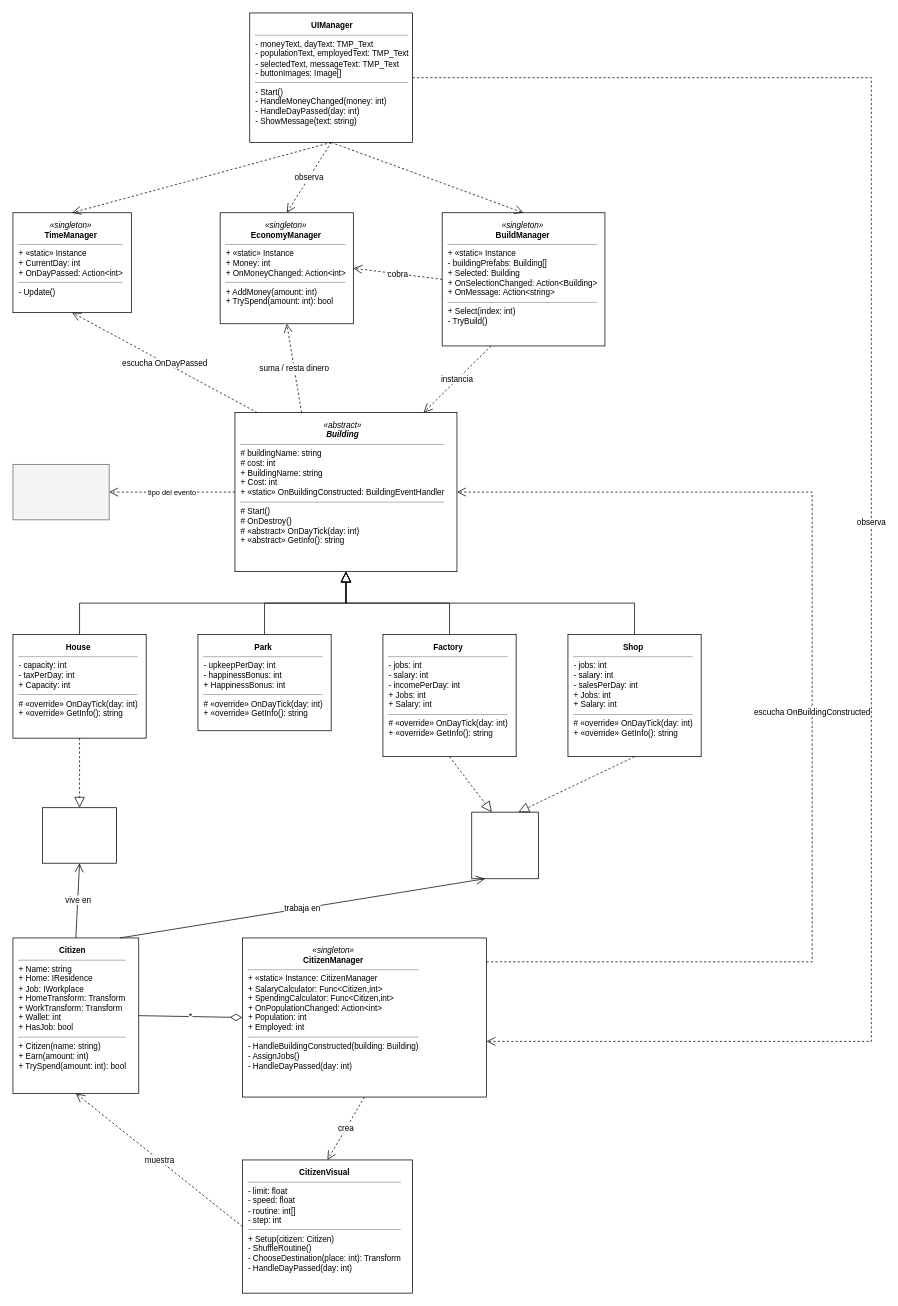
This 898x1306 diagram has some shape labels left out. The centre of each missing label's shape, as x and y in pixels:
"«delegate» BuildingEventHandler (building: Building): void" belongs at point (60, 492).
"«interface» IResidence + Capacity: int" belongs at point (79, 835).
"«interface» IWorkplace + Jobs: int + Salary: int" belongs at point (504, 845).
